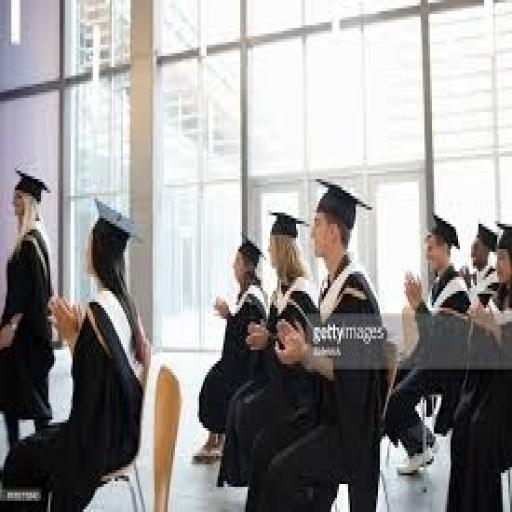clapping: (2, 196, 153, 509), (266, 176, 391, 509), (194, 232, 270, 476), (0, 162, 58, 450)
